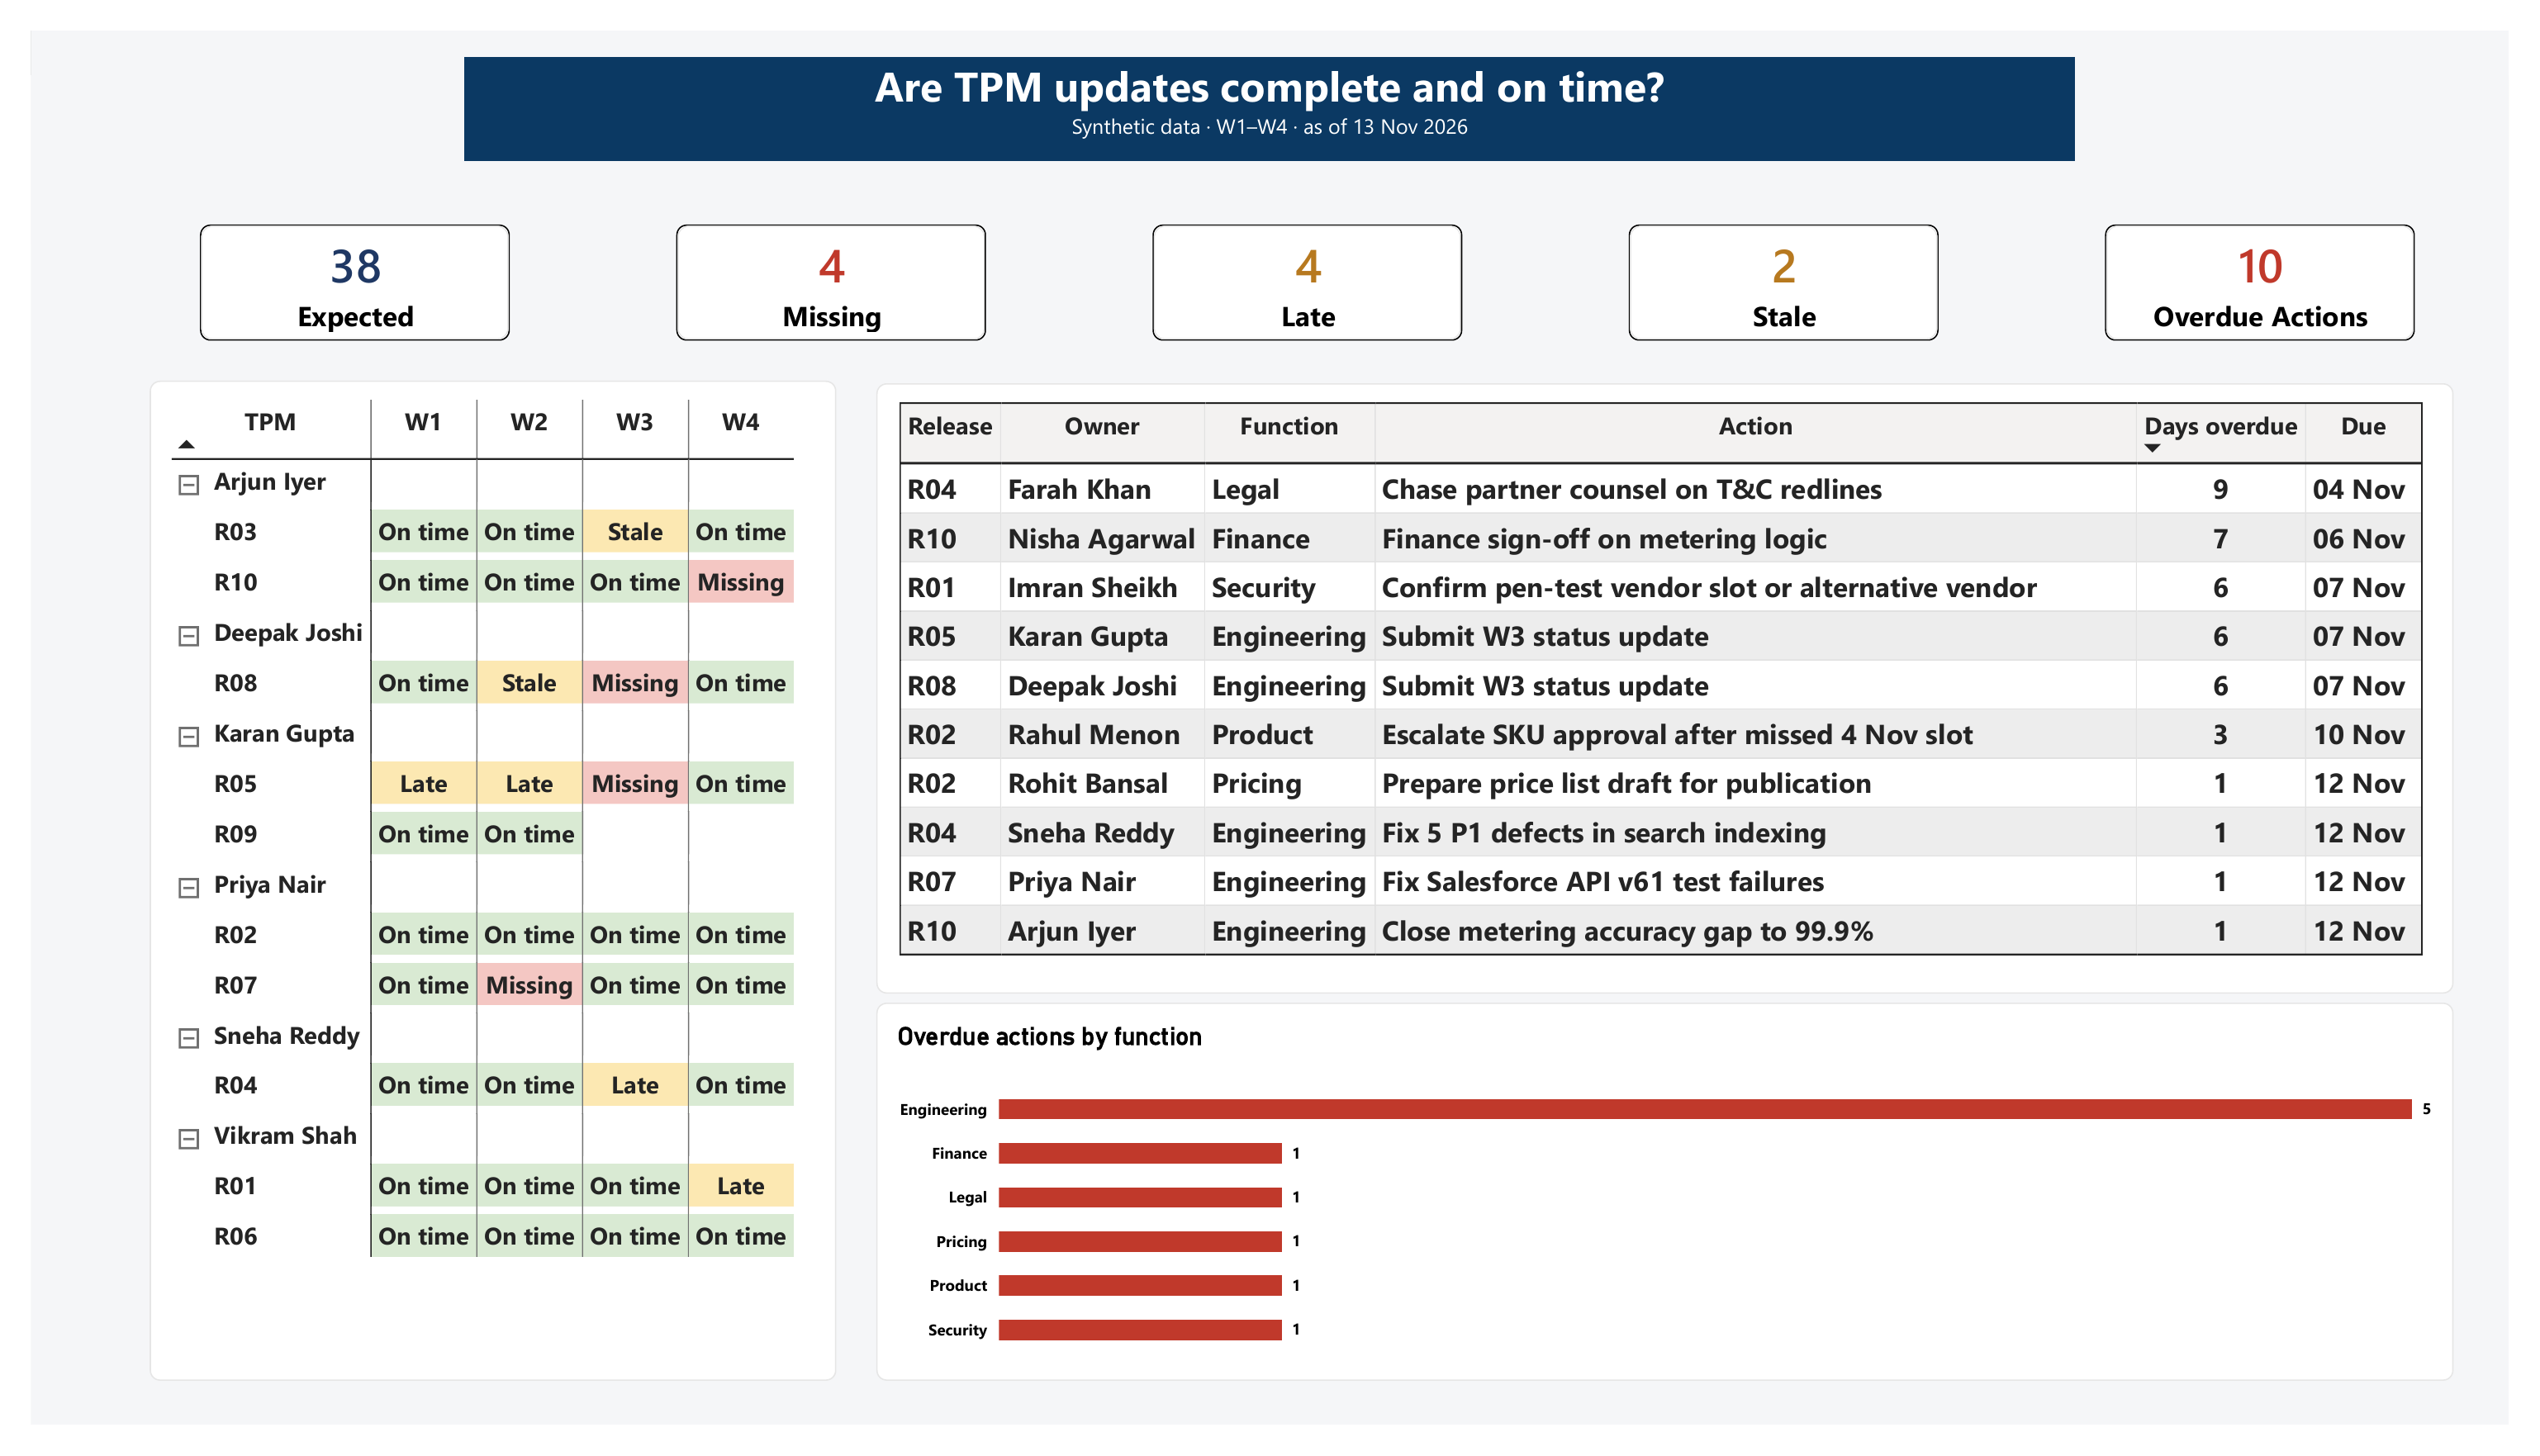

What the dashboard file says about the page in this screenshot:
{"tool":"powerbi","page":{"name":"Reporting hygiene","canvas":[1920,1080],"ordinal":0},"visuals":[{"type":"cardVisual","fields":{"Data":["Expected Updates.Missing"]},"box":[499.7,149.8,240,90],"z":0},{"type":"cardVisual","fields":{"Data":["Expected Updates.Late"]},"box":[868.8,149.8,240,90],"z":1000},{"type":"cardVisual","fields":{"Data":["Expected Updates.Stale"]},"box":[1237.9,149.8,240,90],"z":2000},{"type":"cardVisual","fields":{"Data":["Action_Items.Overdue Actions"]},"box":[1607,149.8,240,90],"z":3000},{"type":"pivotTable","fields":{"Columns":["Expected Updates.week"],"Rows":["Expected Updates.tpm","Expected Updates.release_id"],"Values":["Min(Expected Updates.status)"]},"box":[92.3,271.4,532,774.5],"z":4000},{"type":"tableEx","fields":{"Values":["Action_Items.release_id","Action_Items.owner","Action_Items.owner_function","Action_Items.description","Sum(Action_Items.Days Overdue)","Action_Items.due_on"]},"box":[655.1,273.3,1221.5,472.3],"z":5000},{"type":"textbox","box":[335.7,19.9,1248.7,81.4],"z":6000},{"type":"cardVisual","fields":{"Data":["Expected Updates.Expected"]},"box":[130.7,149.8,240,90],"z":7000},{"type":"clusteredBarChart","title":"Overdue actions by function","fields":{"Category":["Action_Items.owner_function"],"Y":["Action_Items.Overdue Actions"]},"box":[655.1,752.8,1221.5,293.2],"z":8000}]}

Visuals, with their boxes on the page's 1920x1080 design canvas (x1, y1, x2, y2). These are canvas units, not pixel positions in the 2540x1456 screenshot, which may show the page scaled, cropped or inside an application window:
cardVisual - Expected Updates.Missing: [500,150,740,240]
cardVisual - Expected Updates.Late: [869,150,1109,240]
cardVisual - Expected Updates.Stale: [1238,150,1478,240]
cardVisual - Action_Items.Overdue Actions: [1607,150,1847,240]
pivotTable - Expected Updates.week x Expected Updates.tpm: [92,271,624,1046]
tableEx - Action_Items.release_id x Action_Items.owner: [655,273,1877,746]
textbox: [336,20,1584,101]
cardVisual - Expected Updates.Expected: [131,150,371,240]
"Overdue actions by function" clusteredBarChart: [655,753,1877,1046]
